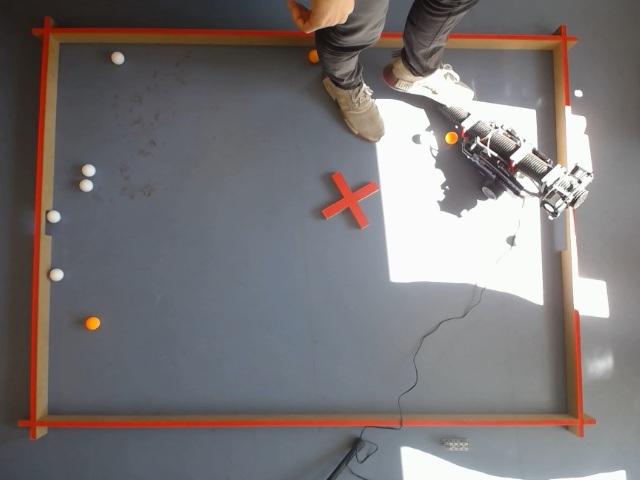orange: (82, 314, 103, 333), (444, 130, 458, 145)
white: (77, 162, 97, 189), (77, 169, 97, 194), (596, 469, 629, 480), (47, 266, 67, 284), (77, 176, 96, 194), (79, 162, 97, 180), (109, 49, 126, 68), (46, 208, 62, 225)
